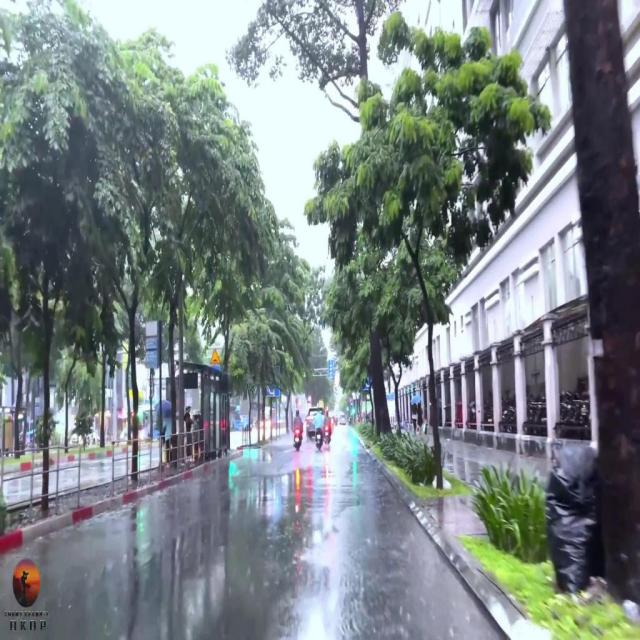duong_co_song_map_mo_nhan_tao: (210, 348, 221, 365)
khac: (328, 359, 334, 378)
